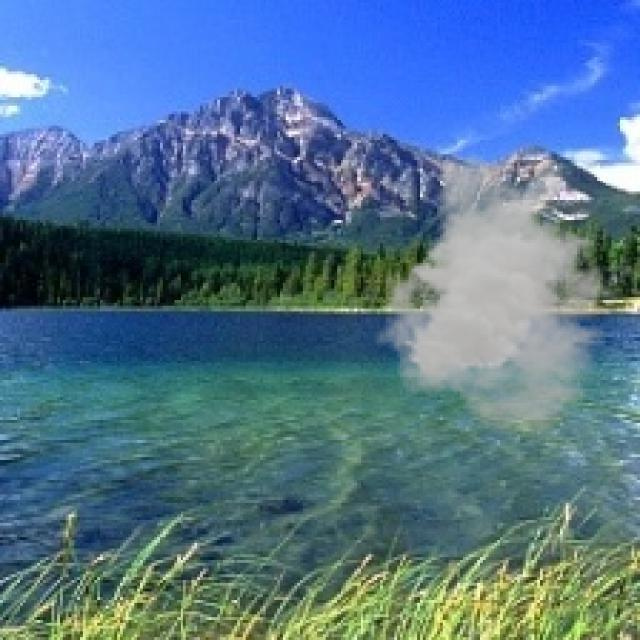Smoke: (374, 152, 637, 434)
